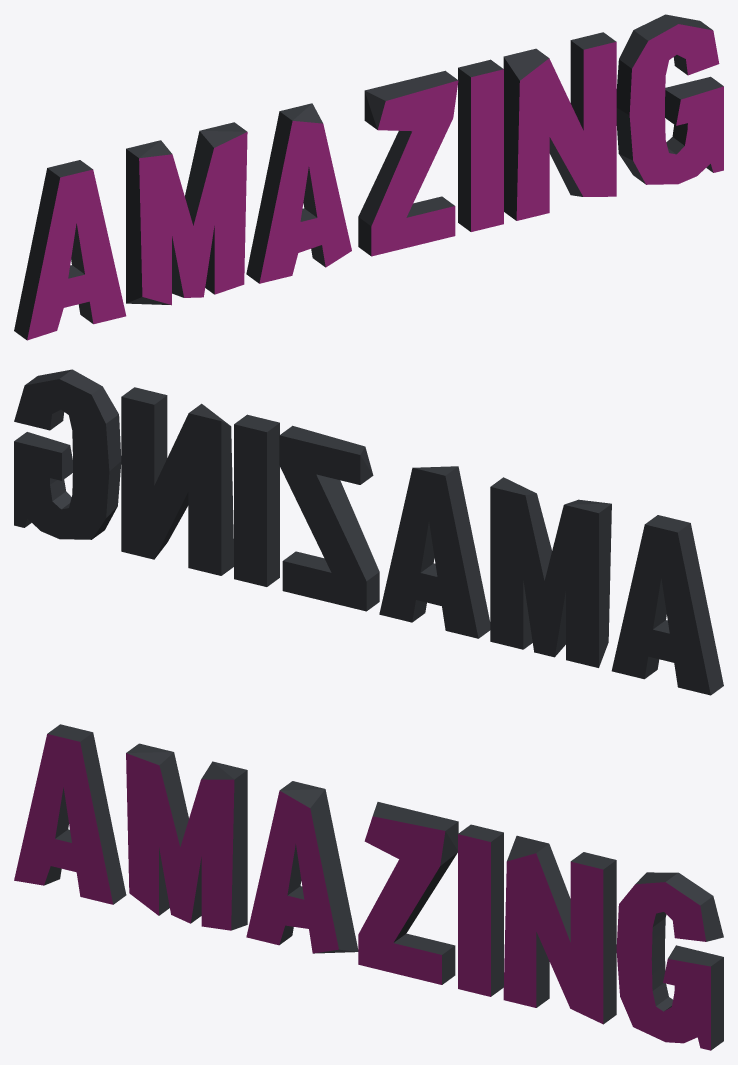
Rendered from SM_Sign_3dText_Amazing_01.obj.
The picture shows the model from 3 angles, top to bottom: view 1: azimuth 30°, elevation 25°; view 2: azimuth 150°, elevation 25°; view 3: azimuth 330°, elevation 25°; orthographic projection.
Visible parts, largest first — view 1: SM_Sign_3dText_Amazing_01_0; view 2: SM_Sign_3dText_Amazing_01_0; view 3: SM_Sign_3dText_Amazing_01_0.
Boxes of the visible parts, left/top/right/bottom form: SM_Sign_3dText_Amazing_01_0: left=14, top=14, right=723, bottom=340; SM_Sign_3dText_Amazing_01_0: left=14, top=369, right=723, bottom=695; SM_Sign_3dText_Amazing_01_0: left=14, top=724, right=723, bottom=1050.
Size of the model in its own units: 3.36 by 0.7379 by 0.1093.
Materials: 1 (1 with a texture image).
